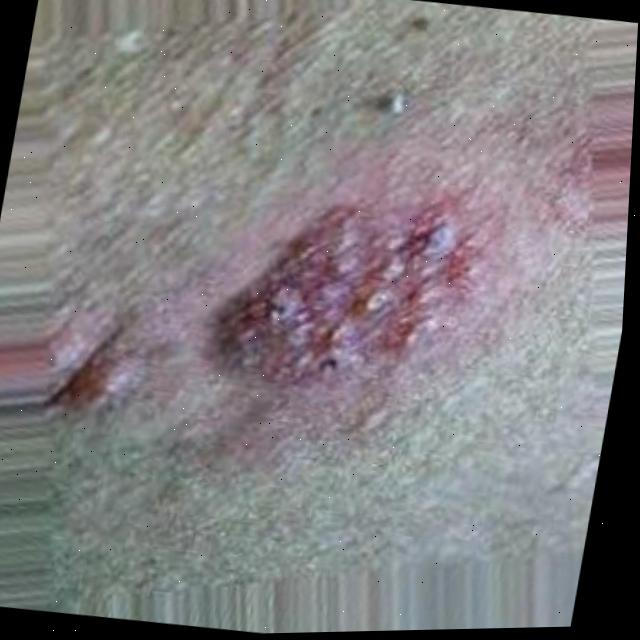Shingles: (203, 176, 492, 409)
